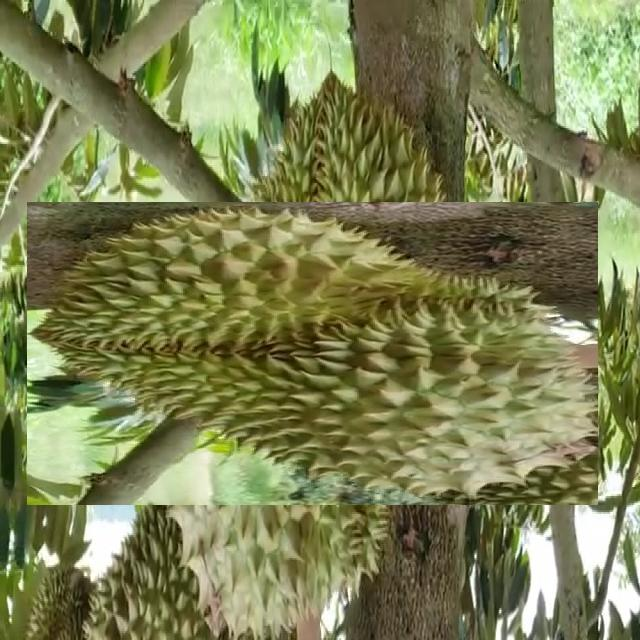durian: (93, 135, 531, 572)
